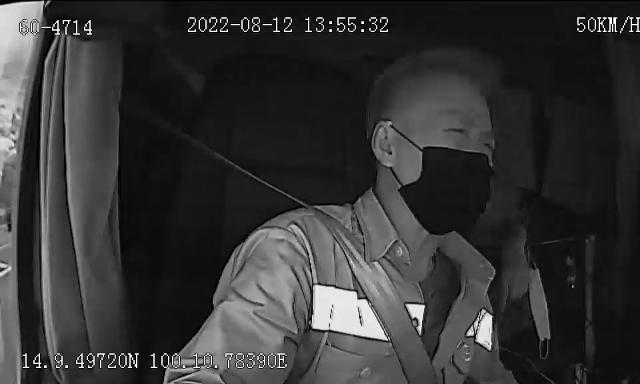Seatbelt: (304, 204, 438, 384)
